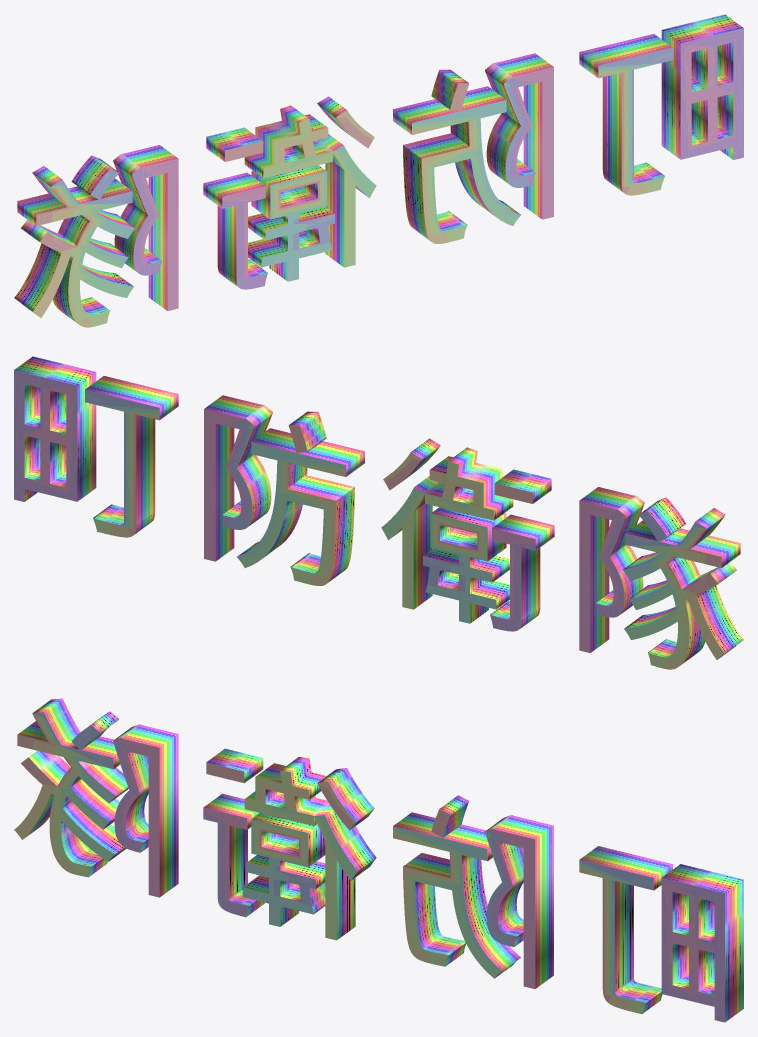
Rendered from gameName.obj.
3 views of the same model, one above another, from view 1: azimuth 30°, elevation 25°; view 2: azimuth 150°, elevation 25°; view 3: azimuth 330°, elevation 25° (orthographic).
Visible parts, largest first — view 1: テキスト; view 2: テキスト; view 3: テキスト.
Part boxes in pixels (x1,y1,x2,y2): テキスト: [14, 14, 743, 327]; テキスト: [14, 356, 743, 669]; テキスト: [14, 698, 743, 1022].
Bounding box in the file's own units: 4.35 × 0.921 × 0.2.
1 material, 1 textured.
